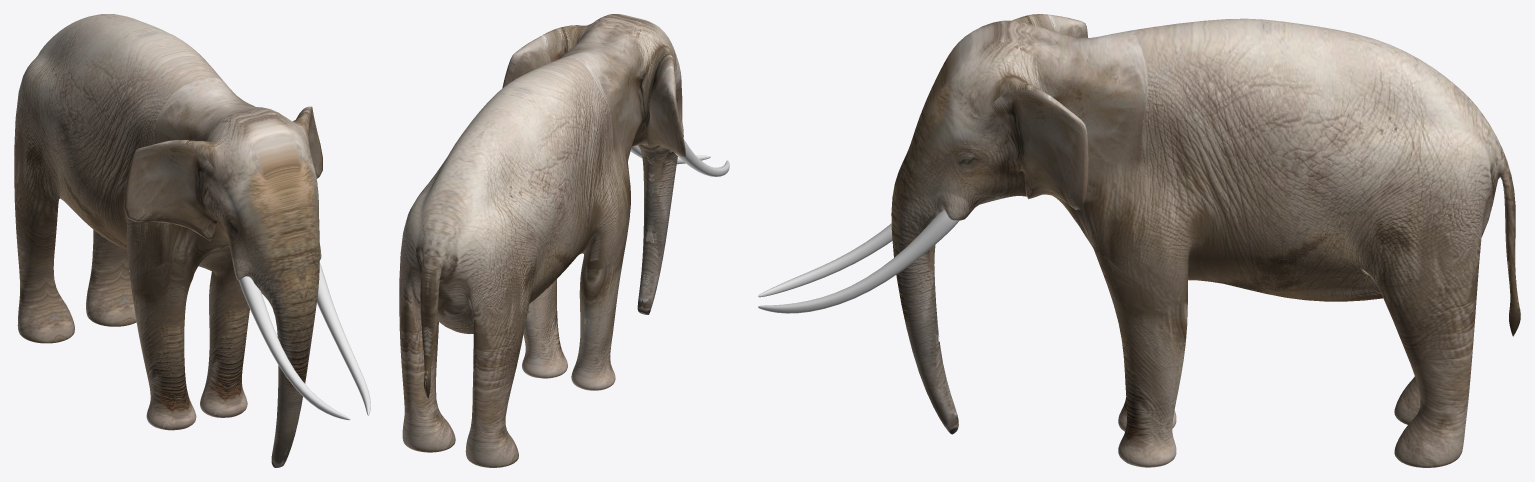
Rendered from Elephant (1).fbx.
3 views of the same model, side by side, from view 1: azimuth 30°, elevation 25°; view 2: azimuth 150°, elevation 25°; view 3: azimuth 270°, elevation 25° (orthographic). The views are drawn at different scales.
Parts seen in each view (by area): view 1: Cube, Cube.001; view 2: Cube, Cube.001; view 3: Cube, Cube.001.
Part boxes in pixels (x1,y1,x2,y2): Cube: (14, 14, 322, 467); Cube.001: (239, 262, 370, 420); Cube: (399, 14, 685, 467); Cube.001: (630, 139, 729, 176); Cube: (891, 14, 1520, 467); Cube.001: (758, 210, 959, 313).
Size of the model in its own units: 540 by 898 by 1487.
Materials: 1 (1 with a texture image).
